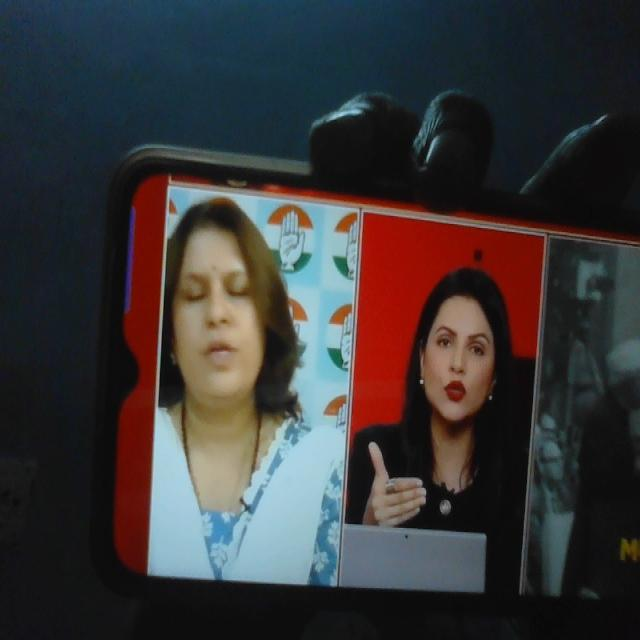fake: (162, 192, 278, 411), (405, 241, 521, 460)
